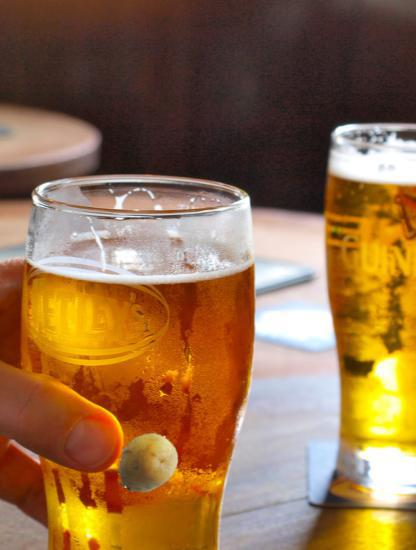Potato: (114, 430, 179, 495)
